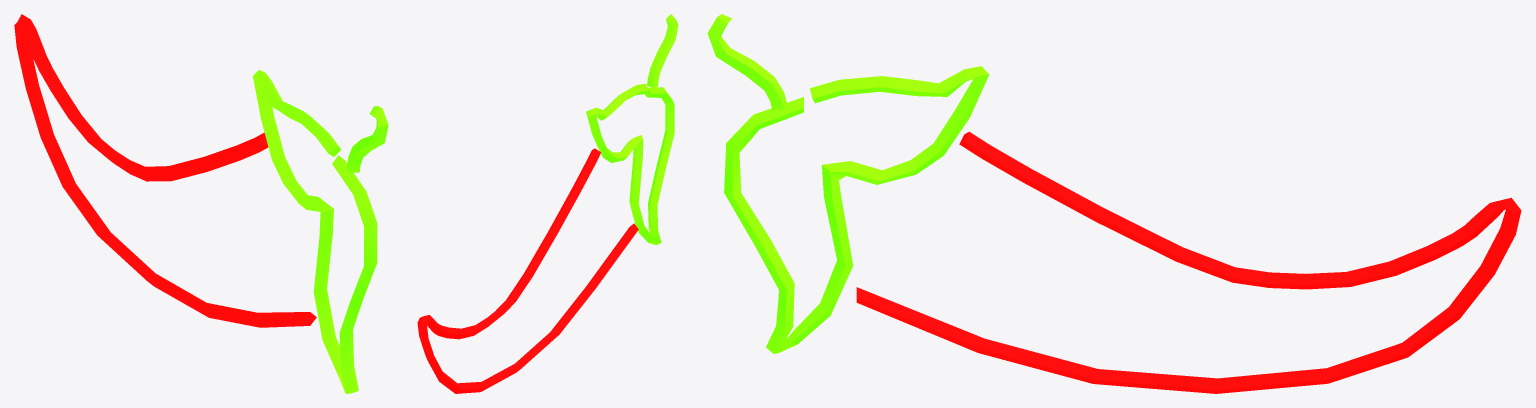
Rendered from NeonPepper.fbx.
3 renders of one model, left to right at view 1: azimuth 30°, elevation 25°; view 2: azimuth 150°, elevation 25°; view 3: azimuth 270°, elevation 25°, orthographic. The views are drawn at different scales.
Visible parts, largest first — view 1: Pepper, Top, Stem; view 2: Pepper, Top, Stem; view 3: Pepper, Top, Stem.
Boxes of the visible parts, x1,y1,x2,y2 form: Pepper: (14, 14, 316, 327); Top: (253, 70, 377, 393); Stem: (347, 106, 388, 172); Pepper: (417, 148, 638, 393); Top: (586, 83, 674, 245); Stem: (647, 14, 678, 87); Pepper: (856, 131, 1521, 393); Top: (724, 66, 989, 353); Stem: (707, 14, 786, 109).
Bounding box in the file's own units: 4.28 × 65.62 × 127.
